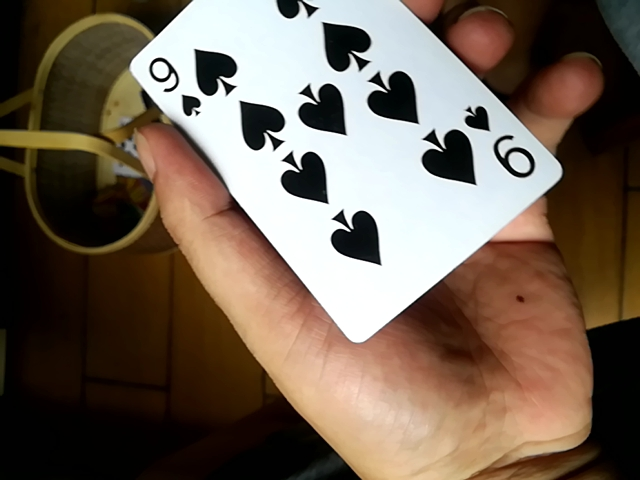ht 9: (130, 0, 570, 340)
